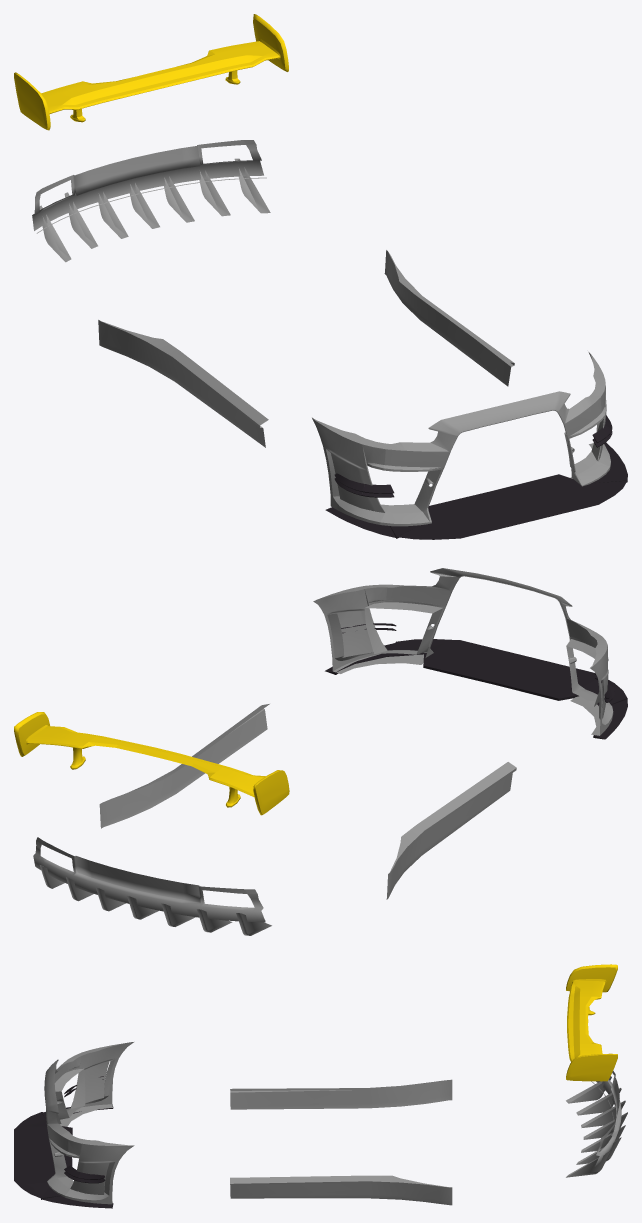
The model's file is evo10_new_boot_upgrade.FBX.
3 views of the same model, one above another, from view 1: azimuth 30°, elevation 25°; view 2: azimuth 150°, elevation 25°; view 3: azimuth 270°, elevation 25° (orthographic). The views are drawn at different scales.
Parts seen in each view (by area): view 1: DrawCall23, DrawCal106, air wing, DrawCall33, 对象08, 对象07, DrawCall32; view 2: DrawCall23, DrawCal106, air wing, DrawCall32, DrawCall33, 对象07, 对象08; view 3: DrawCall23, DrawCall32, DrawCall33, air wing, DrawCal106, 对象07, 对象08.
Part boxes in pixels (box(x1,y1,x2,y2)): DrawCall23: box(312, 352, 610, 526); DrawCal106: box(32, 140, 270, 262); air wing: box(14, 14, 288, 130); DrawCall33: box(98, 319, 268, 447); 对象08: box(325, 491, 529, 539); 对象07: box(491, 442, 627, 521); DrawCall32: box(384, 250, 514, 386); DrawCall23: box(313, 568, 613, 735); DrawCal106: box(33, 837, 271, 935); air wing: box(14, 712, 289, 815); DrawCall32: box(99, 704, 269, 828); DrawCall33: box(386, 762, 516, 899); 对象07: box(325, 639, 528, 683); 对象08: box(491, 657, 627, 739); DrawCall23: box(44, 1042, 134, 1204); DrawCall32: box(230, 1175, 452, 1205); DrawCall33: box(230, 1079, 452, 1109); air wing: box(566, 964, 617, 1081); DrawCal106: box(566, 1071, 627, 1177); 对象07: box(14, 1153, 113, 1208); 对象08: box(14, 1104, 113, 1155).
Bounding box in the file's own units: 4096 × 2616 × 9881.
